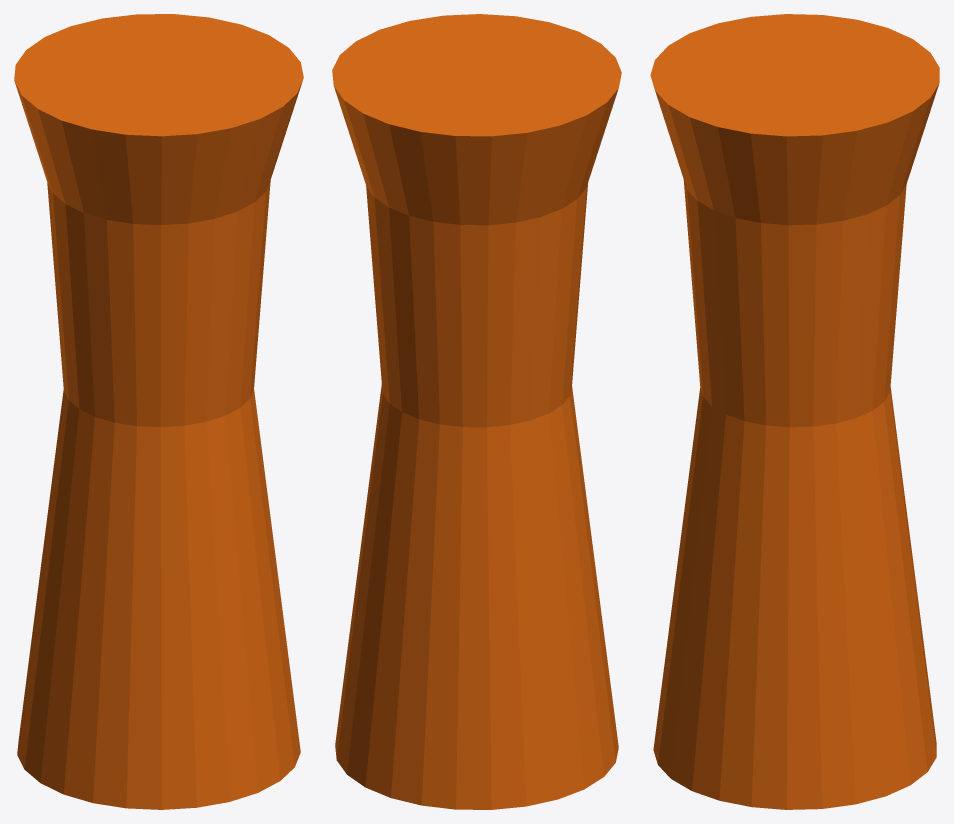
File: Wood3.fbx
The picture shows the model from 3 angles, left to right: view 1: azimuth 30°, elevation 25°; view 2: azimuth 150°, elevation 25°; view 3: azimuth 270°, elevation 25°; orthographic projection.
Parts seen in each view (by area): view 1: Wood3; view 2: Wood3; view 3: Wood3.
Boxes of the visible parts, x1,y1,x2,y2 form: Wood3: (14, 14, 303, 809); Wood3: (332, 14, 621, 809); Wood3: (650, 14, 939, 809).
Size of the model in its own units: 1.02 by 1.02 by 2.62.
